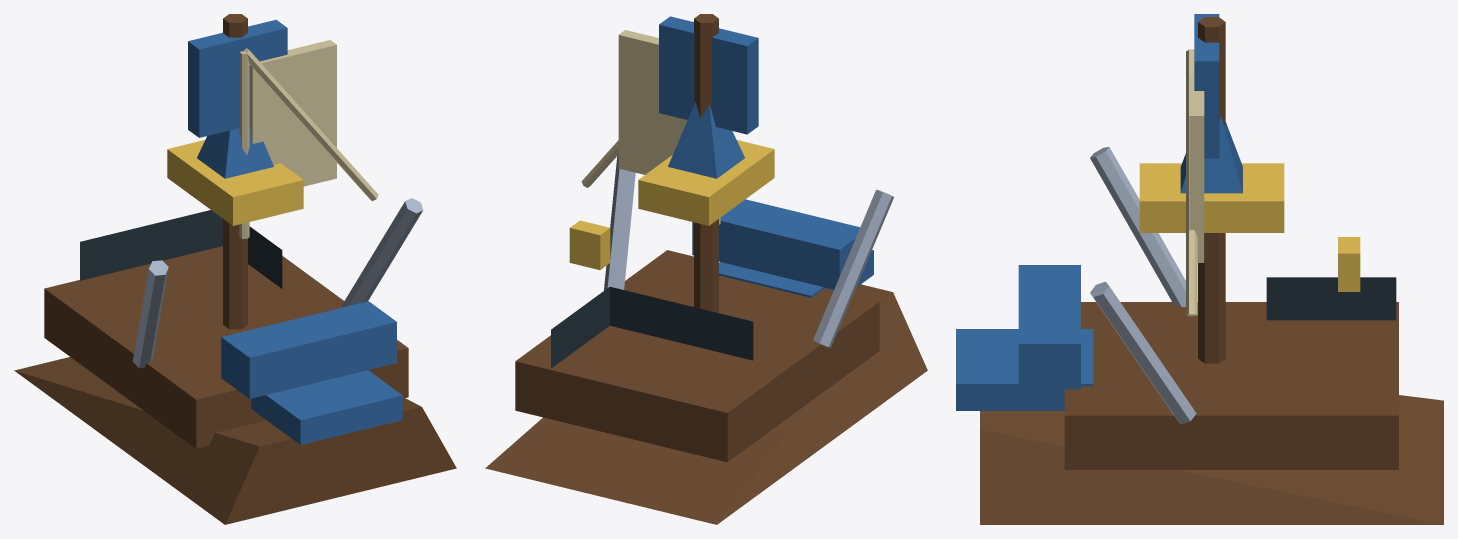
The model's file is fishing-vessel.obj.
The picture shows the model from 3 angles, left to right: view 1: azimuth 30°, elevation 25°; view 2: azimuth 150°, elevation 25°; view 3: azimuth 270°, elevation 25°; orthographic projection. The views are drawn at different scales.
Visible parts, largest first — view 1: ship; view 2: ship; view 3: ship.
Part boxes in pixels (x1,y1,x2,y2): ship: [14, 14, 456, 524]; ship: [485, 14, 927, 524]; ship: [956, 14, 1443, 524].
Bounding box in the file's own units: 1.39 × 1.95 × 1.95.
